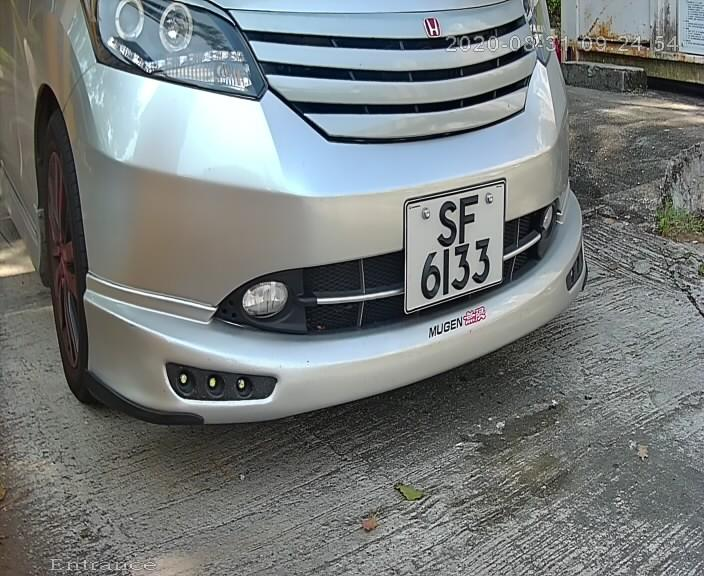Car: (7, 1, 623, 458)
License Plate: (397, 173, 513, 314)
